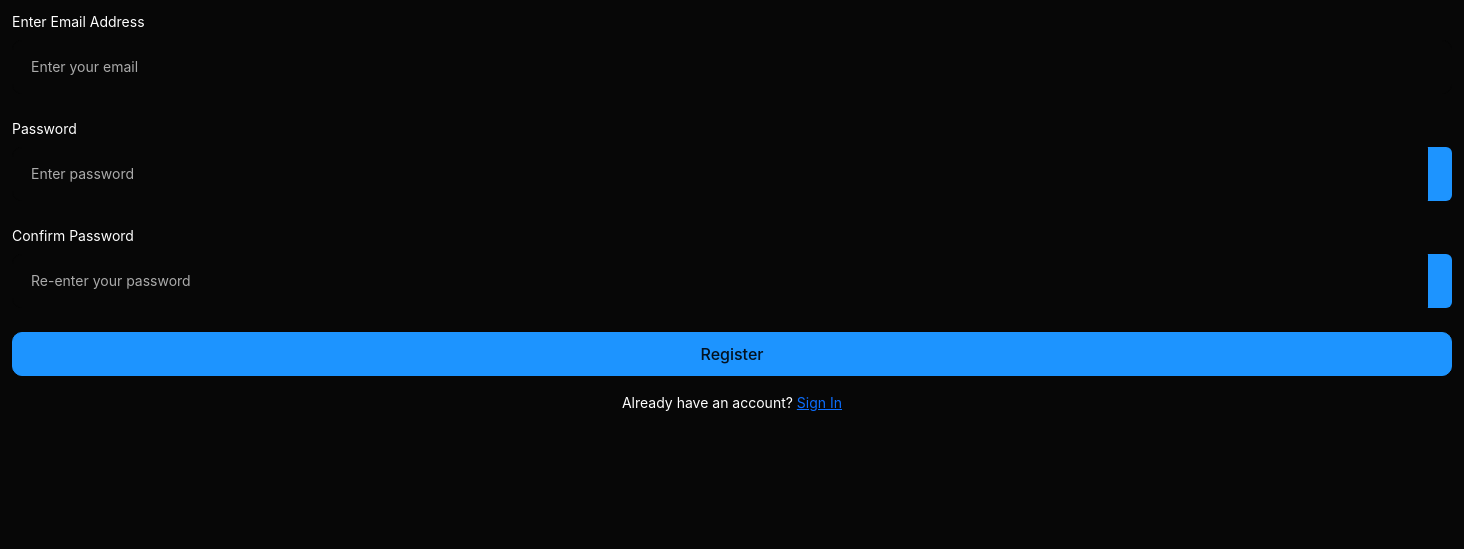
Test case: delivery off: it does not tell the user to check a spam folder
Type "someone@example.com" into the field with placeholder "Enter your email".
click(732, 67); type("someone@example.com")  # box [12,40,1452,94]
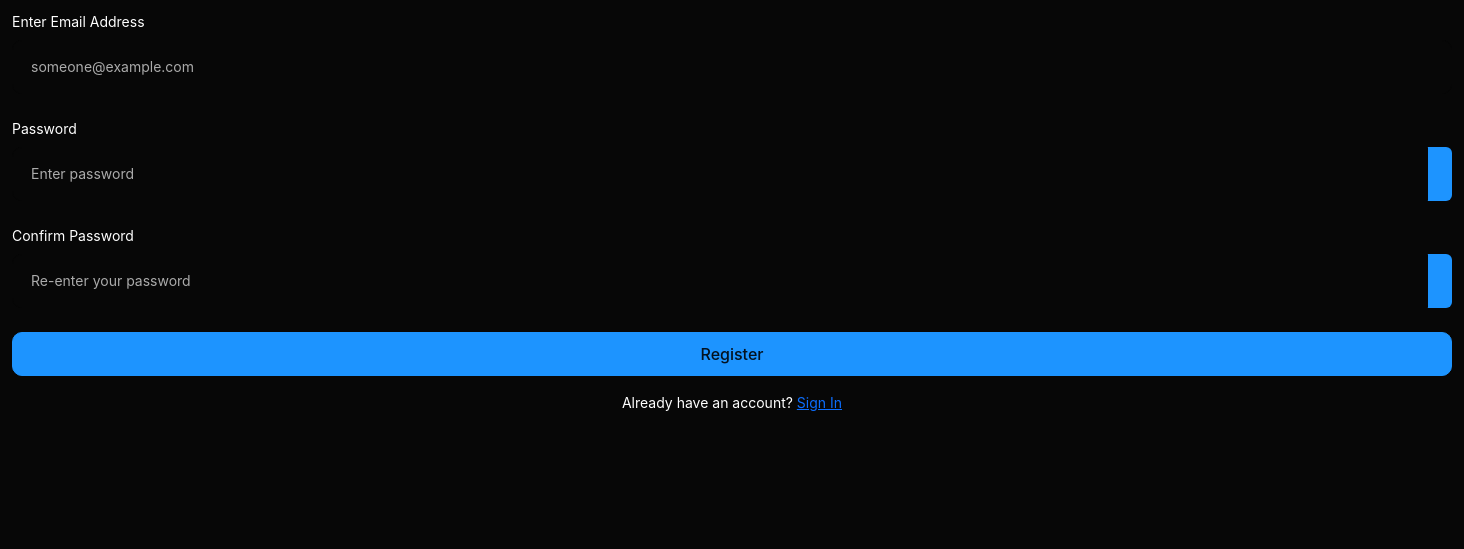
Type "Passw0rd!23" into the password field with placeholder "Enter password".
click(720, 174); type("Passw0rd!23")  # box [12,147,1428,201]
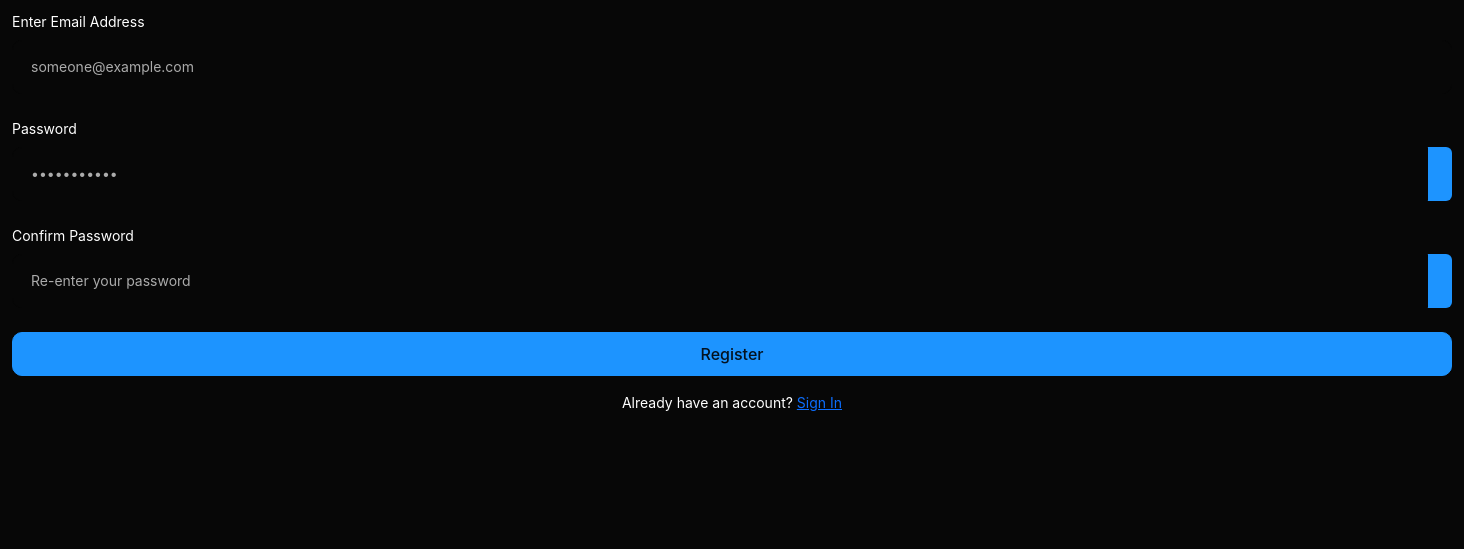
Type "Passw0rd!23" into the password field with placeholder "Re-enter your password".
click(720, 281); type("Passw0rd!23")  # box [12,254,1428,308]
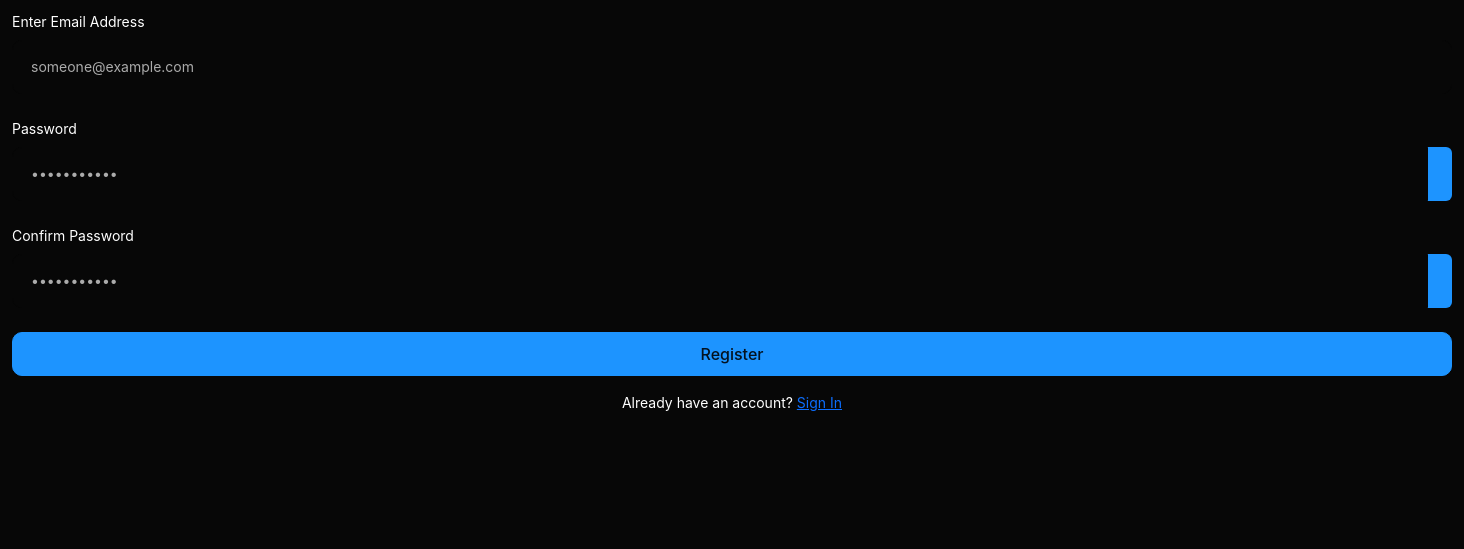
Click the button "Register".
click(732, 354)  # box [12,332,1452,376]
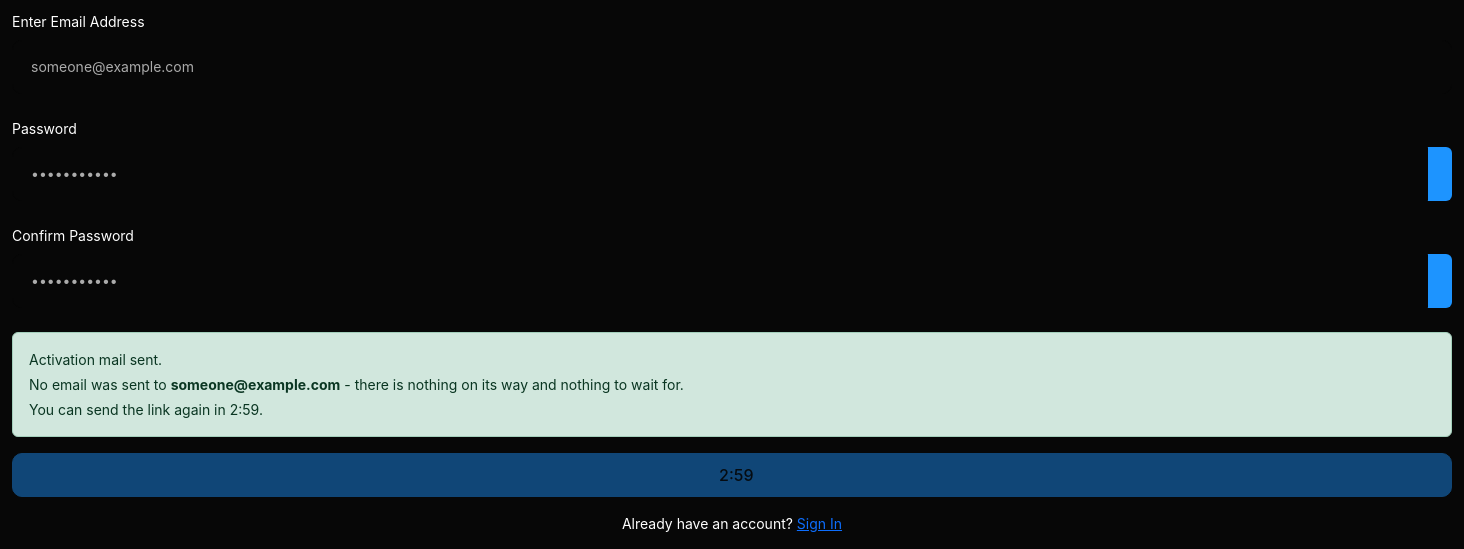
Expected: the element with test id "register-mail-not-sent" is shown, [29,376,684,393]
